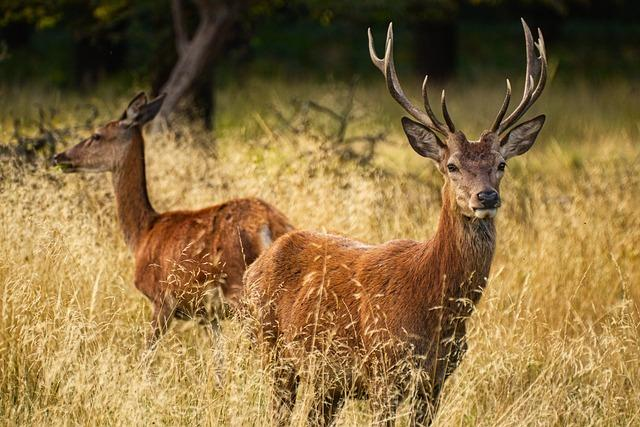Non_Gorille: (82, 10, 607, 425)
